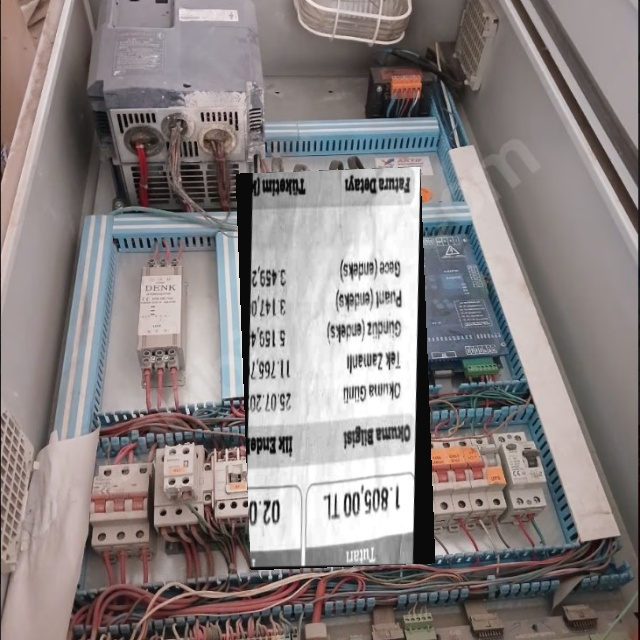electricity-bill: (236, 167, 435, 569)
